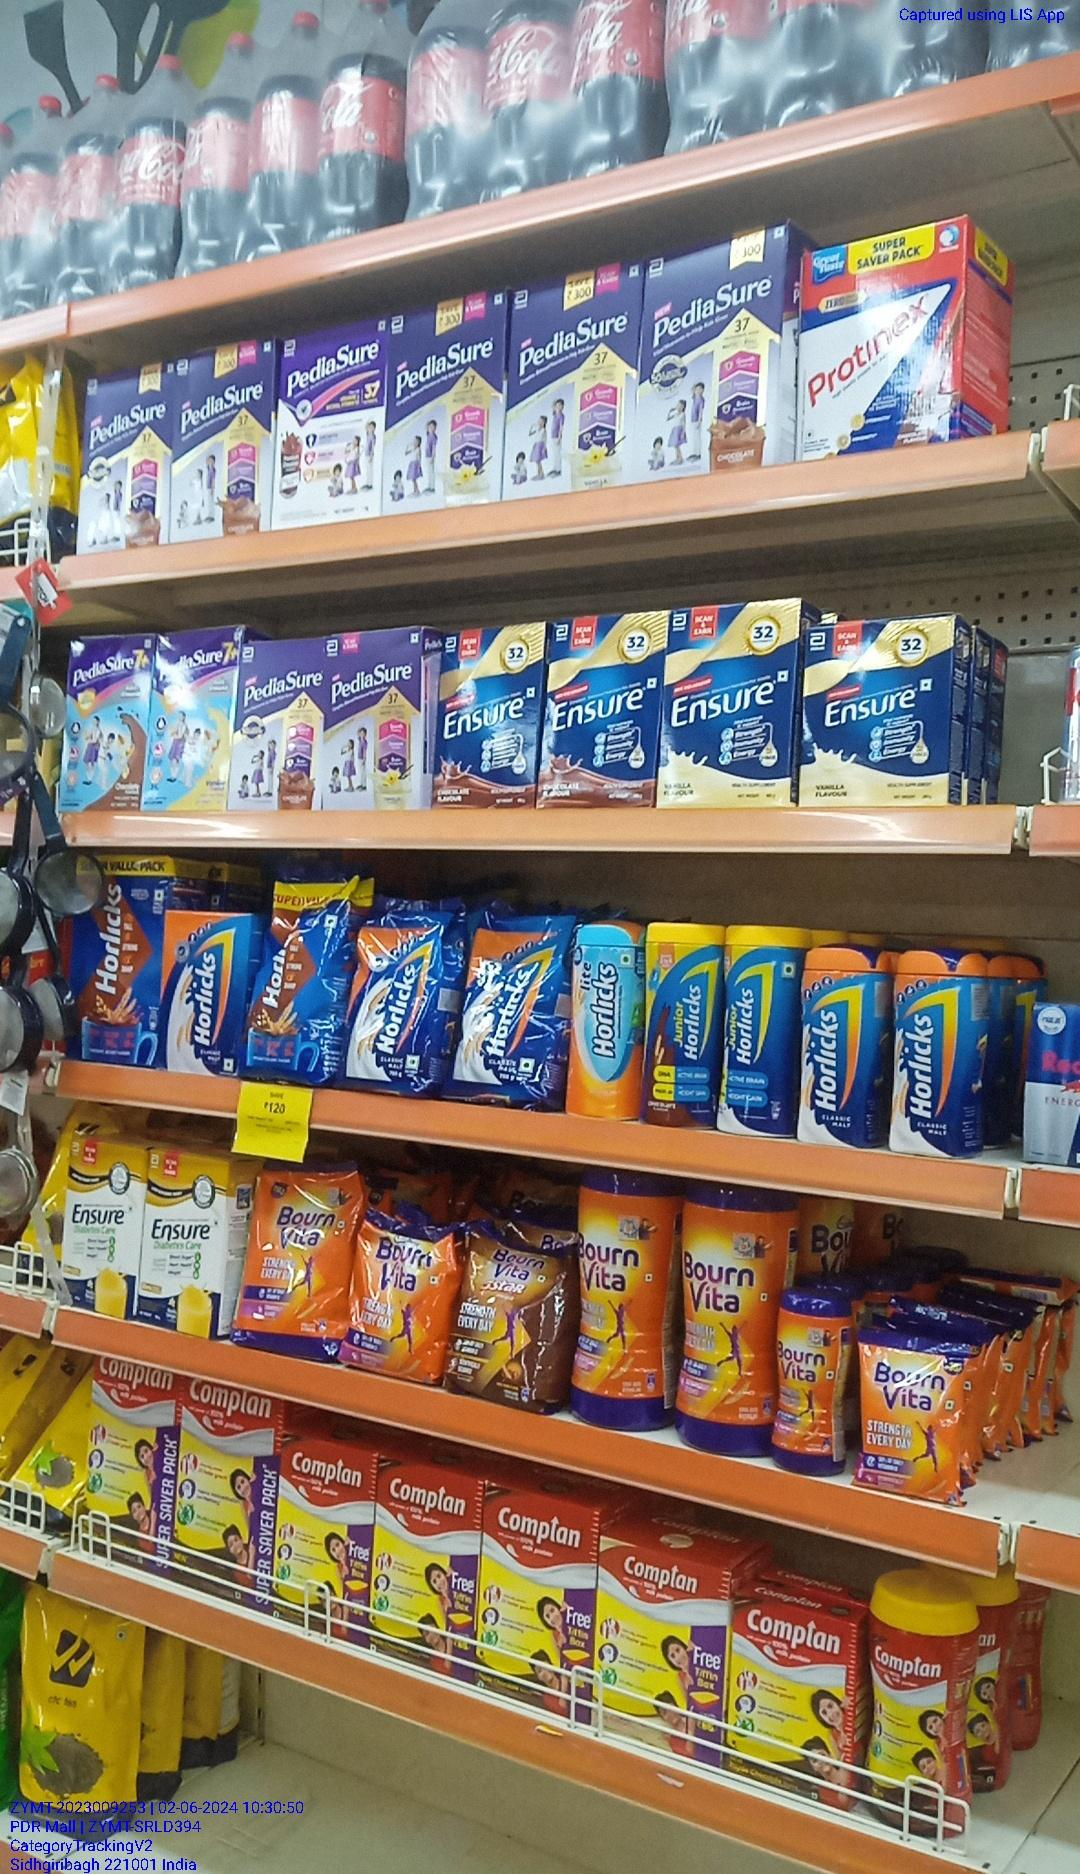BOURN_VITA_FIVE_STAR_MAGIC_500_G_POUCH: (454, 1225, 565, 1415)
ENSURE_VANILLA_400_G_PACK: (801, 619, 953, 807)
HORLICKS_JUNIOR_VANILLA_500_GM_JAR: (727, 923, 796, 1139)
HORLICKS_LITE_REGULAR_MALT_500_GM_JAR: (566, 918, 645, 1115)
HORLICK_CLASSIC_MALT_500_G_JAR: (892, 947, 982, 1156), (802, 946, 882, 1144)
HORLICK_CLASSIC_MALT_500_G_PACK: (158, 905, 251, 1076)
PEDIASURE_7_PLUS_CHOCOLATE_400_G_PACK: (72, 638, 149, 813)
PEDIASURE_CHOCOLATE_500_G_PACK: (640, 223, 784, 479), (171, 326, 272, 544), (72, 359, 165, 557), (242, 640, 322, 810)
PEDIASURE_VANILLA_500_G_PACK: (511, 265, 635, 494), (381, 286, 502, 514), (326, 631, 422, 810)
